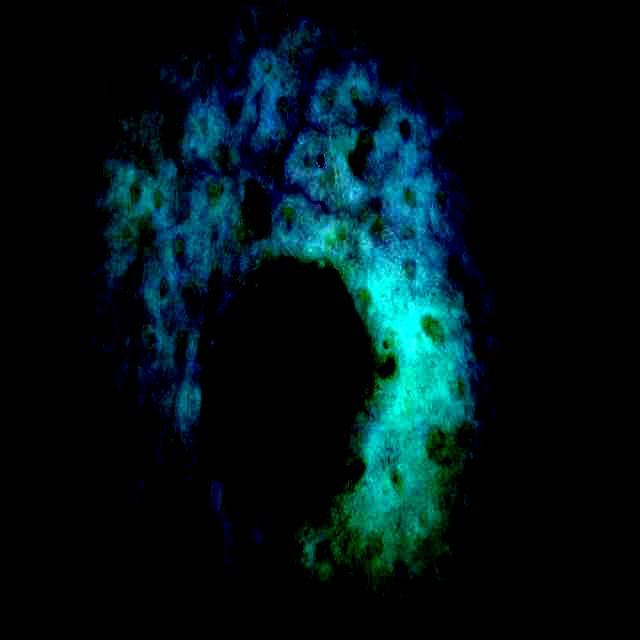BKL: (209, 257, 366, 508)
